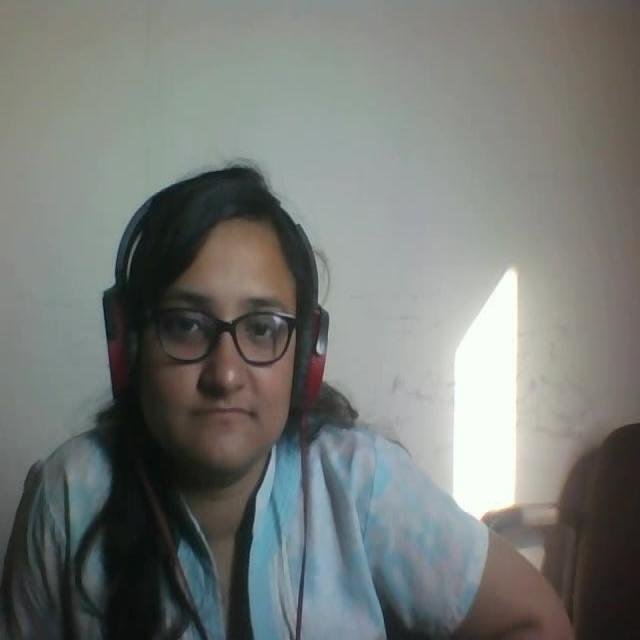Engaged: (95, 147, 354, 487)
